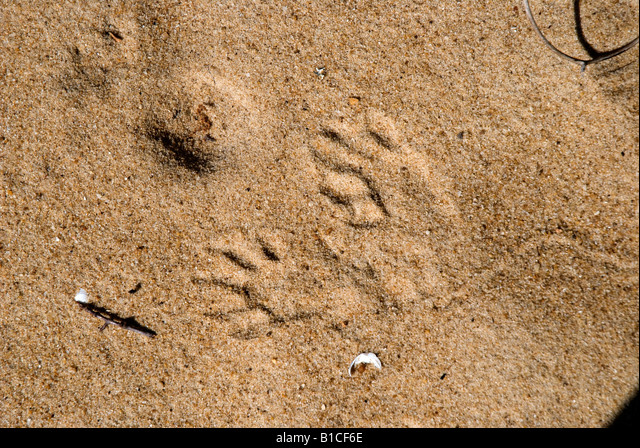raccoon: (273, 102, 445, 239), (185, 223, 372, 328)
